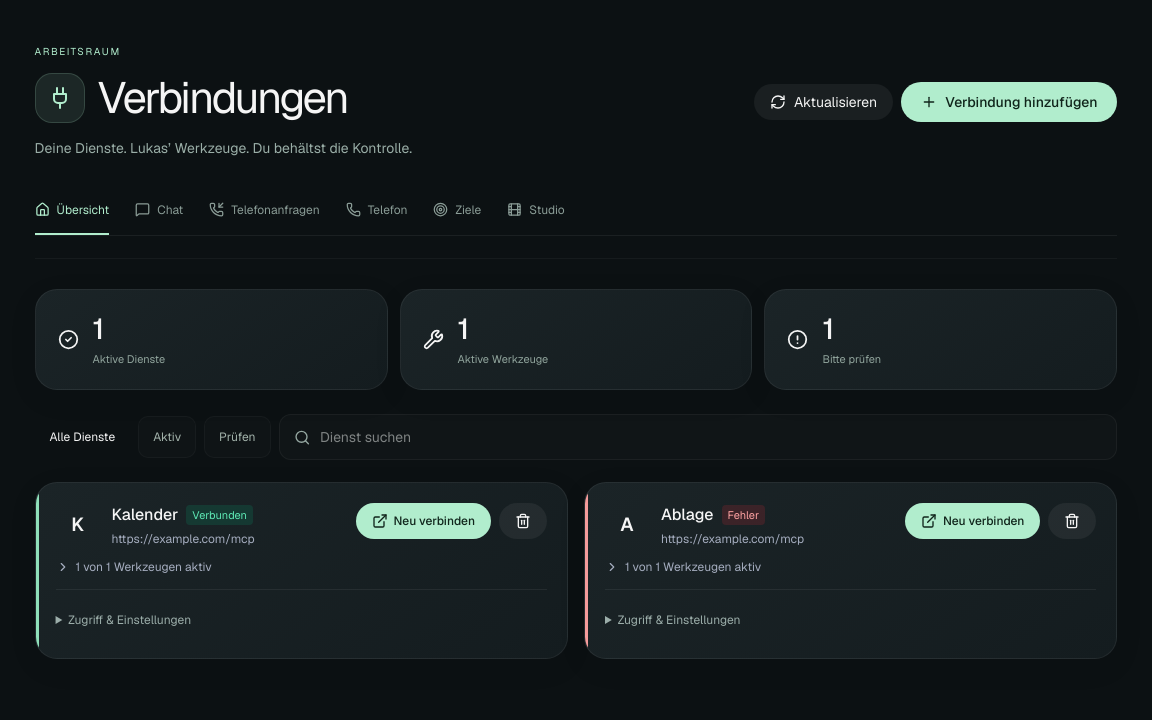
Test case: Verbindungen › behält beim Anlegen Adresse und Namen bei und schließt den Dialog nach Erfolg
Click the button "Verbindung hinzufügen" at (1009, 102), box top-left (901, 82), bottom-right (1118, 122)
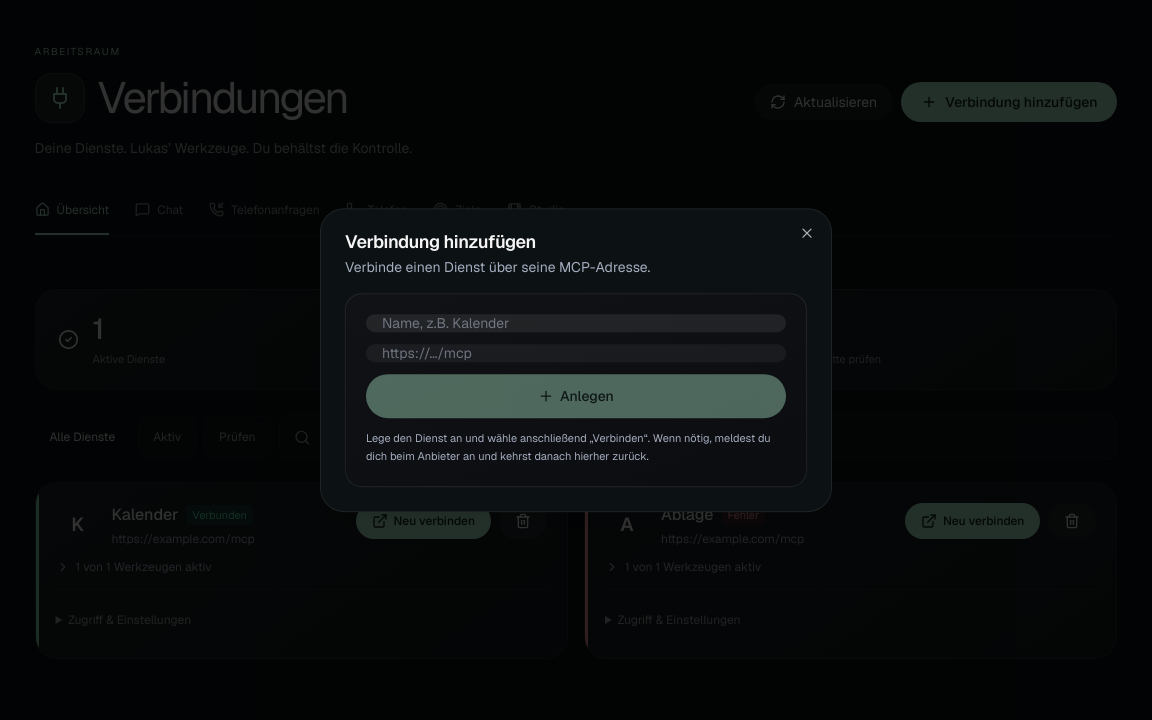
Type "Projekte" into the field named "Name des Servers" at (576, 323), box top-left (366, 314), bottom-right (786, 332)
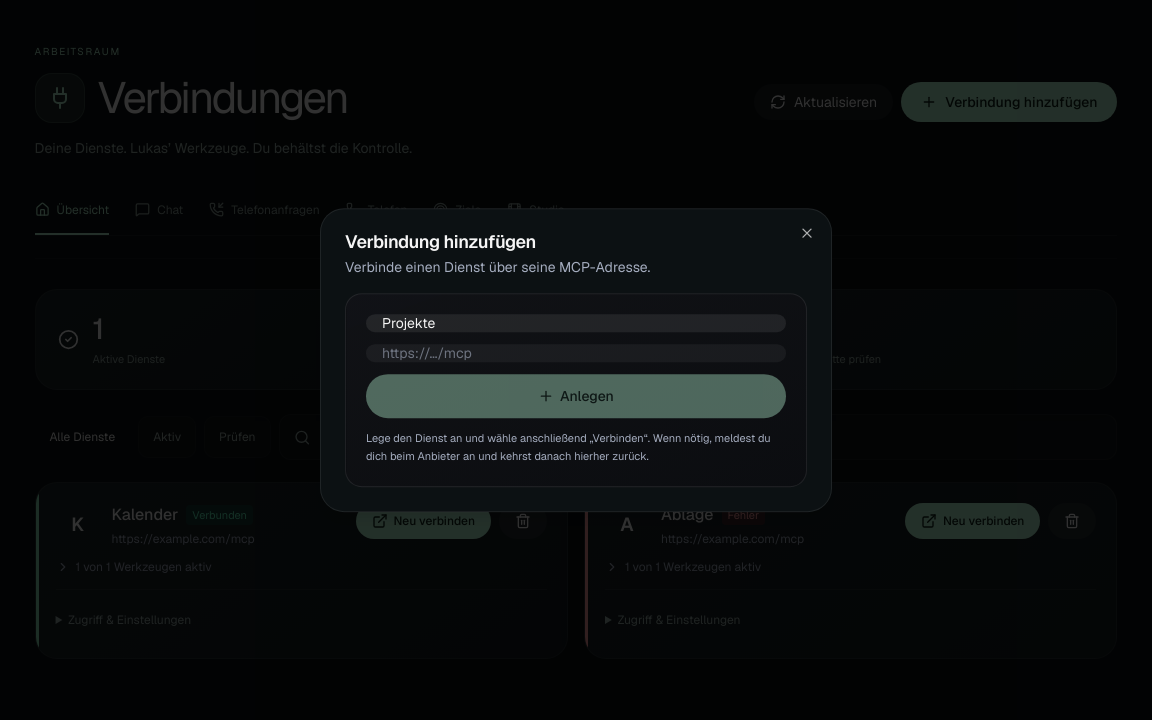
Type "https://example.com/projects" into the field named "Adresse des Servers" at (576, 353), box top-left (366, 344), bottom-right (786, 362)
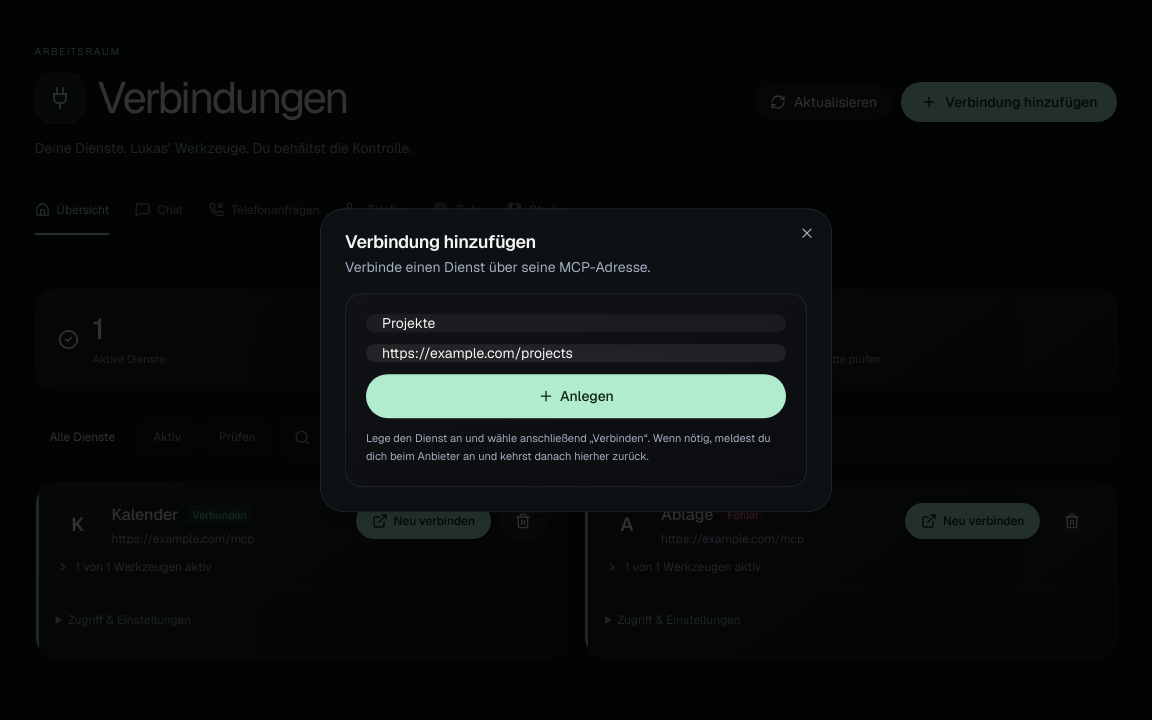
Click the button "Anlegen" at (576, 396), box top-left (366, 374), bottom-right (786, 418)
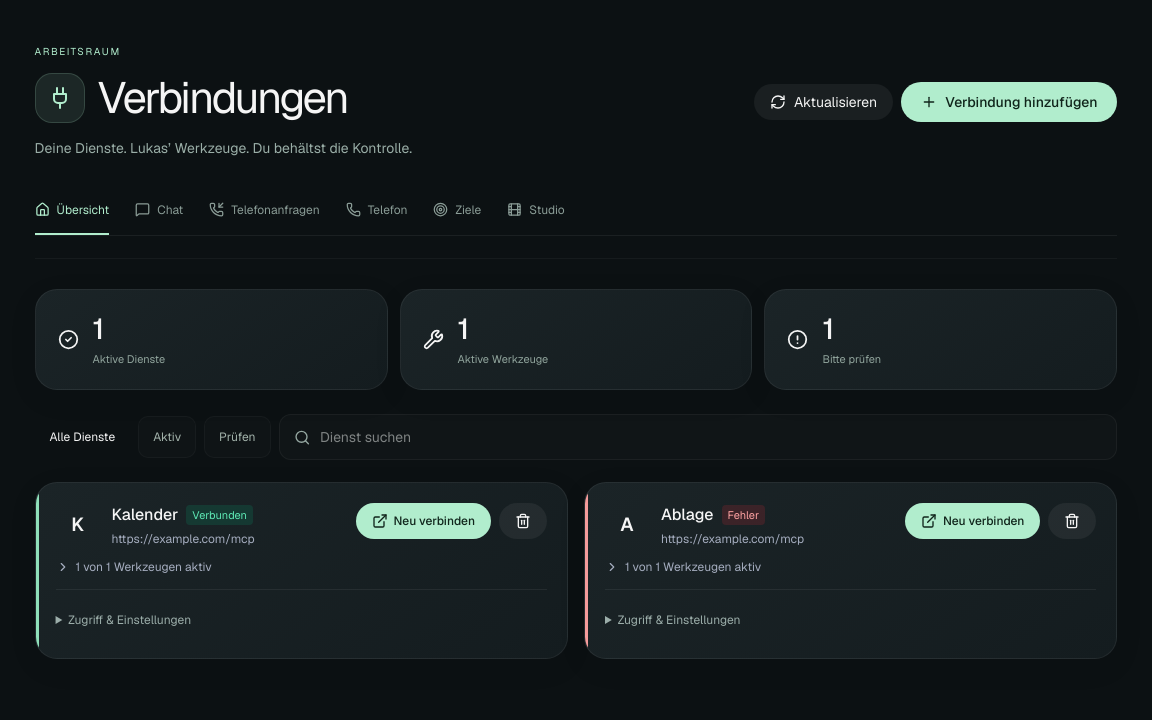
Expected: the dialog is gone
